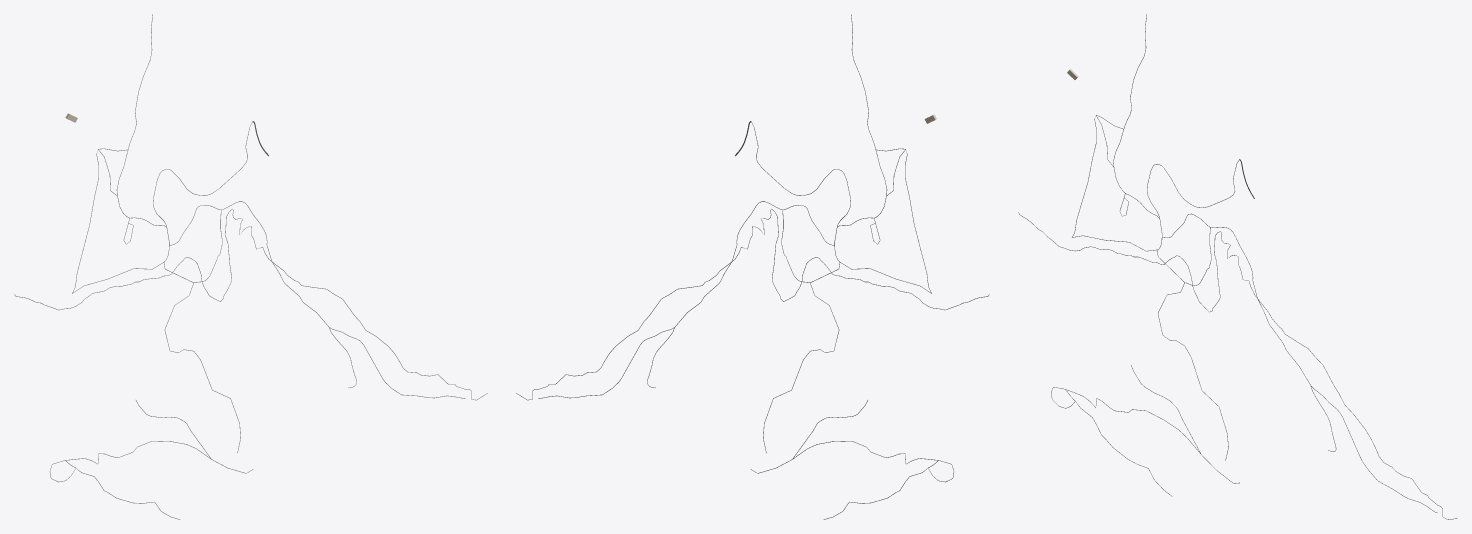
Rendered from historic-palestine-12_31_3536_3253.glb.
3 renders of one model, left to right at view 1: azimuth 30°, elevation 25°; view 2: azimuth 150°, elevation 25°; view 3: azimuth 330°, elevation 25°, orthographic. The views are drawn at different scales.
Parts seen in each view (by area): view 1: Road .007; view 2: Road .007; view 3: Road .007.
Part boxes in pixels (bbox=[...]): Road .007: bbox=[14, 209, 487, 400]; Road .007: bbox=[516, 209, 989, 400]; Road .007: bbox=[1018, 212, 1457, 519].
Bounding box in the file's own units: 1381 × 1430 × 8.7.
